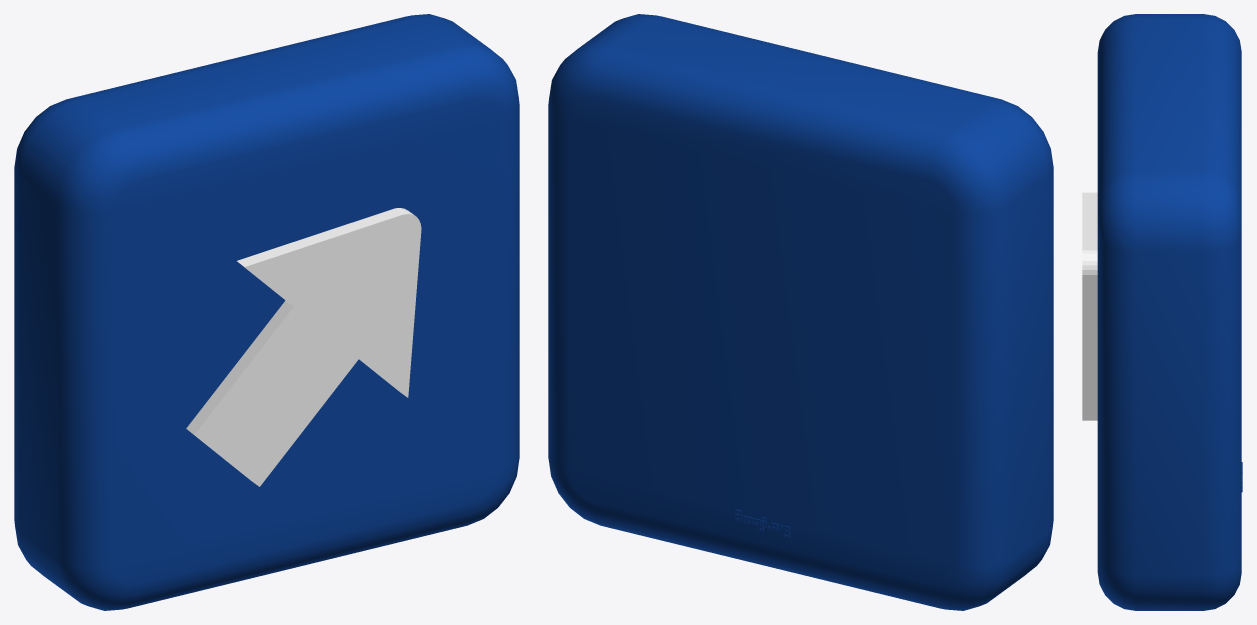
File: up_right_arrow.fbx
3 views of the same model, side by side, from view 1: azimuth 30°, elevation 25°; view 2: azimuth 150°, elevation 25°; view 3: azimuth 270°, elevation 25° (orthographic). The views are drawn at different scales.
Visible parts, largest first — view 1: Cube.6314; view 2: Cube.6314; view 3: Cube.6314.
Part boxes in pixels (x1=…): Cube.6314: x1=14, y1=14, x2=519, y2=610; Cube.6314: x1=548, y1=14, x2=1053, y2=610; Cube.6314: x1=1082, y1=14, x2=1242, y2=610.
Bounding box in the file's own units: 220 × 220 × 73.37.
Materials: 1 (1 with a texture image).
